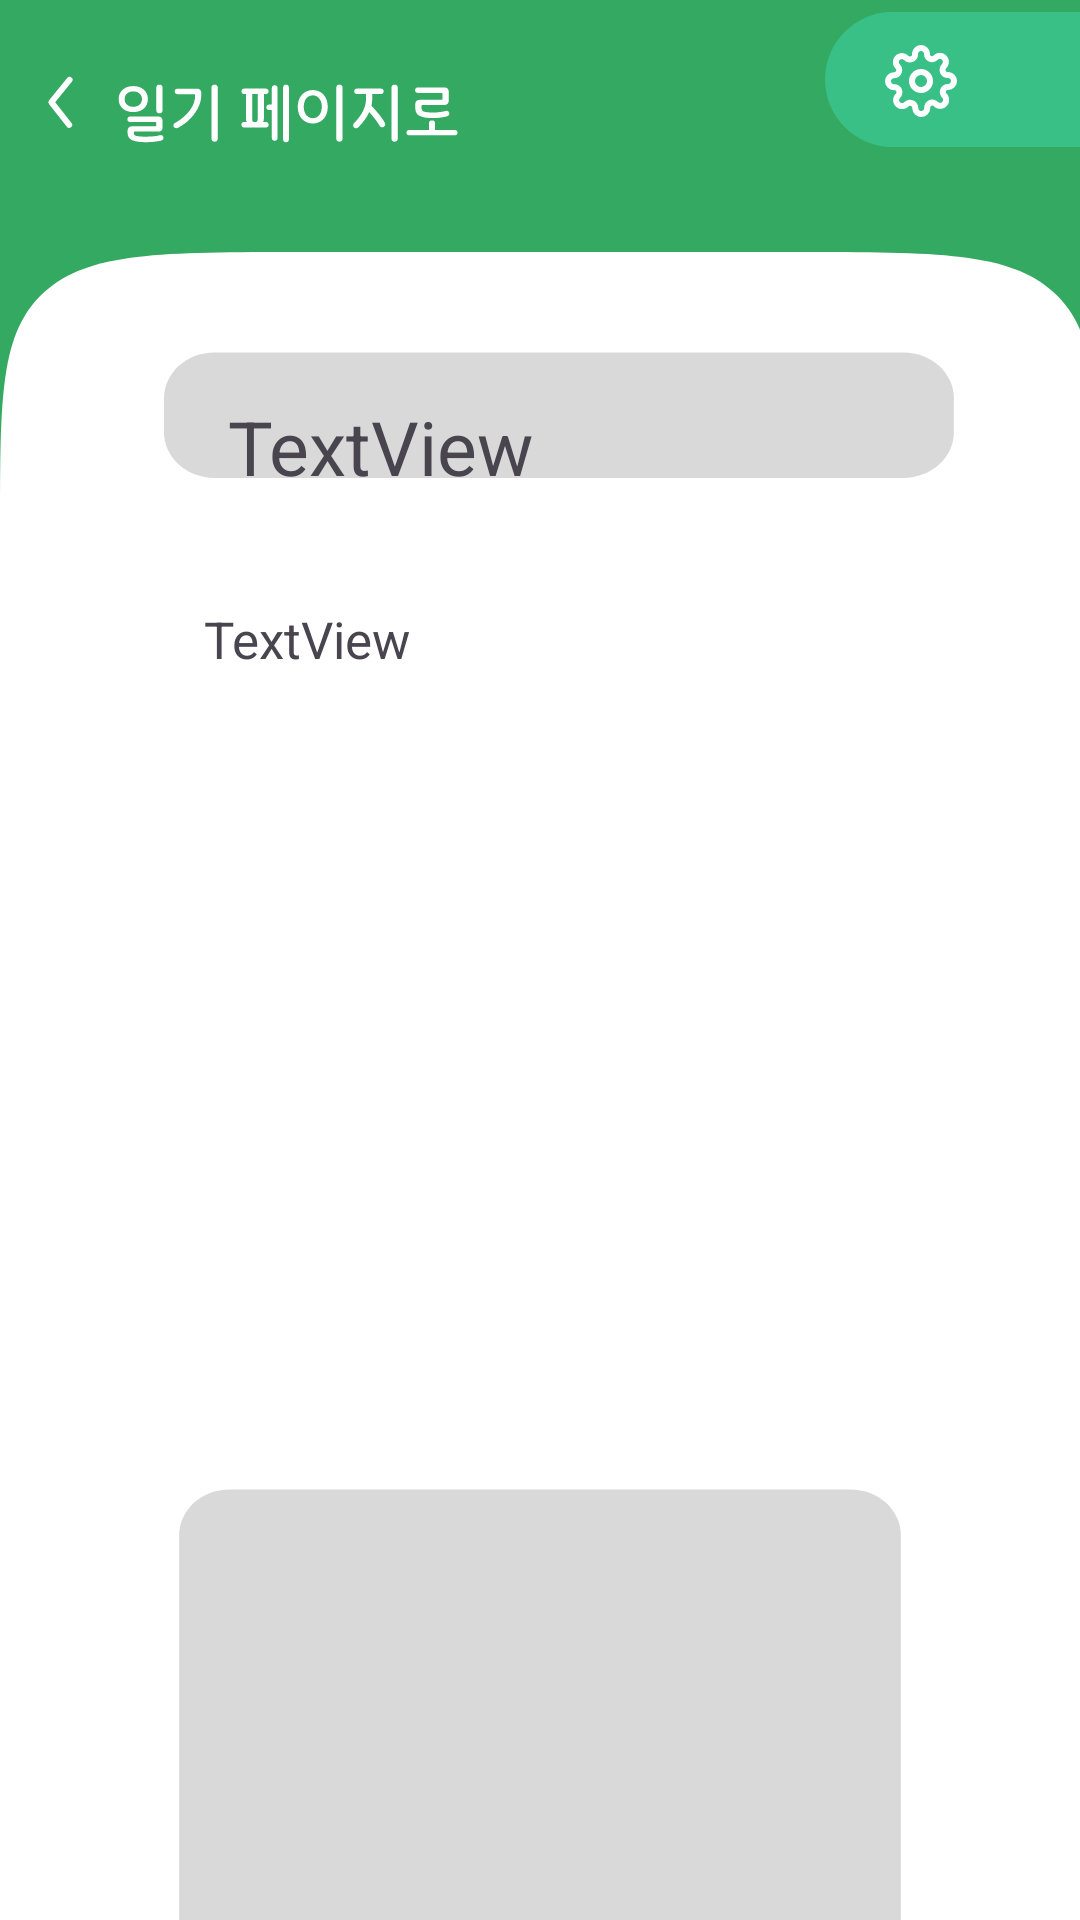

Locate icon controls on the screen. Image size 1080 x 1920, boxes as [left=x1, top=y1, right=x2, bottom=y2].
diary setting: [left=825, top=12, right=1080, bottom=147]
